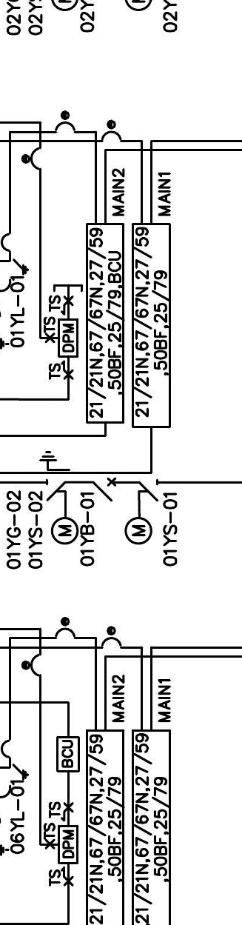115_1way_ds_w_motor: (124, 478, 159, 545)
115_3ways_ds_w_motor: (39, 450, 79, 545)
115_breaker: (92, 477, 116, 502)
BCU: (56, 736, 80, 773)
DPM: (57, 825, 79, 865), (57, 318, 79, 358)
